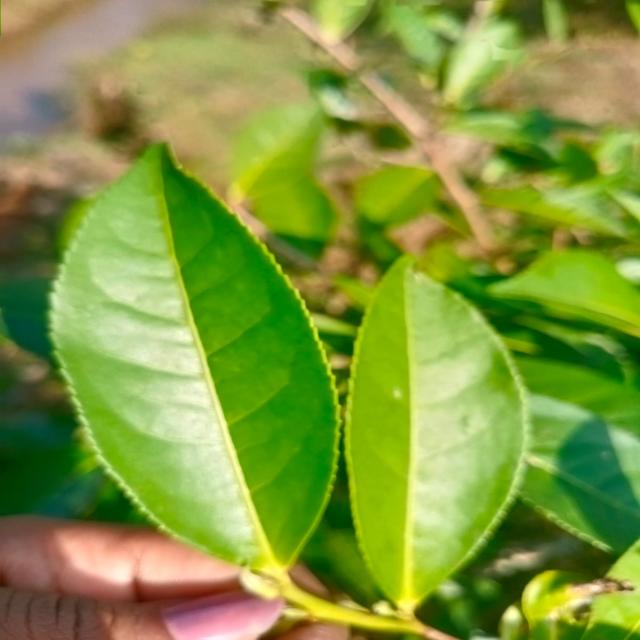Category D 7+ days, Not for Tea: (43, 120, 340, 572)
